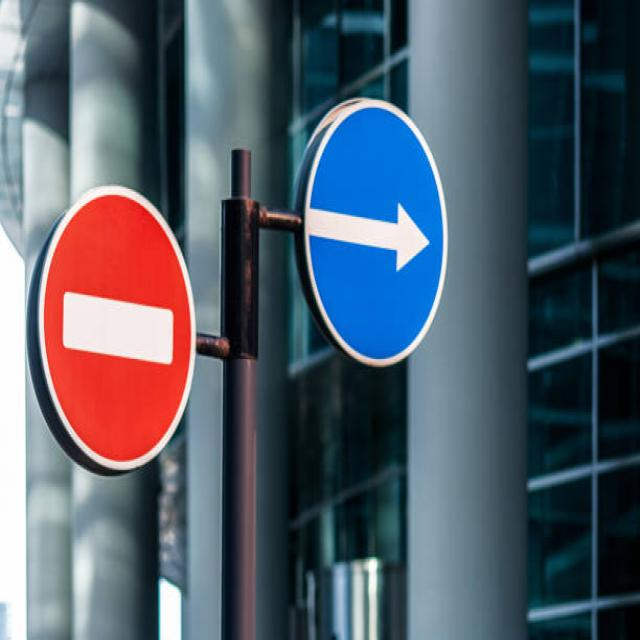compulsory_keep_right: (302, 99, 471, 372)
do_not_enter: (34, 180, 205, 479)
